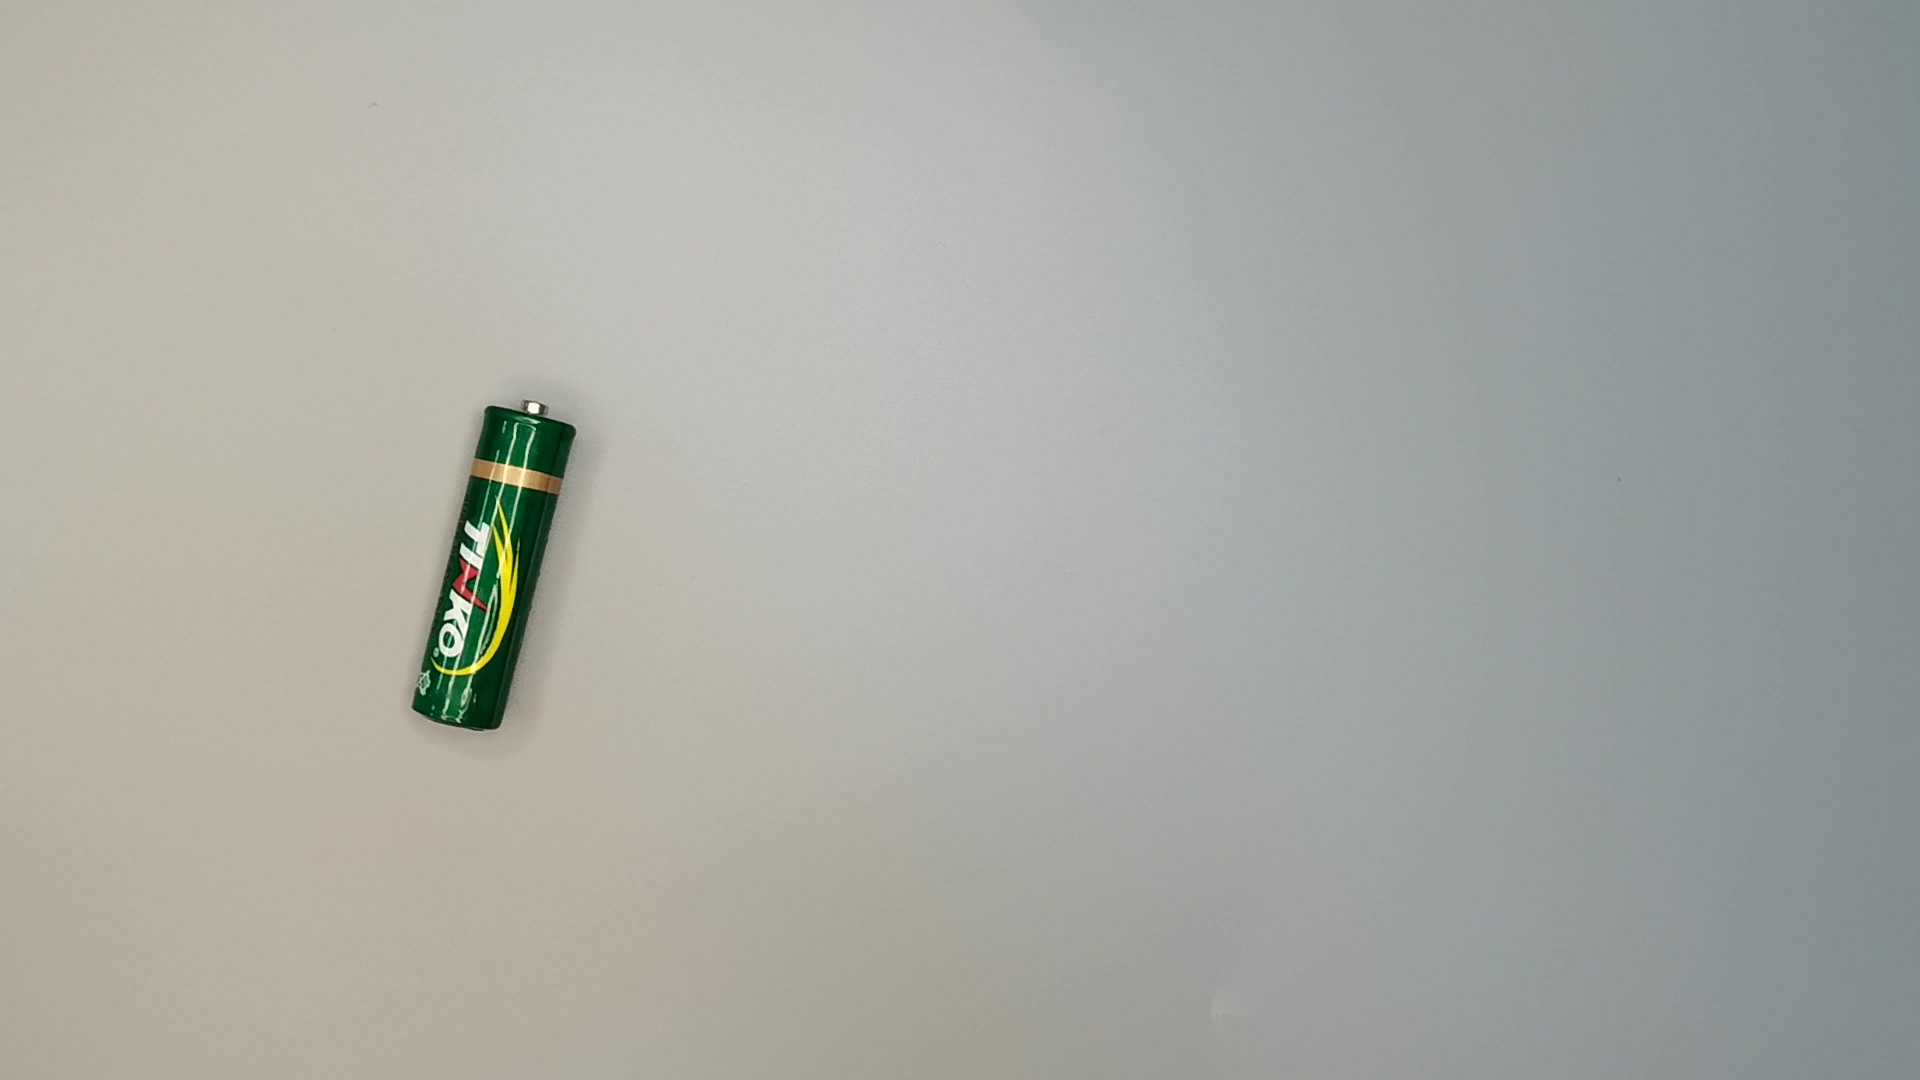battery: (401, 397, 578, 735)
